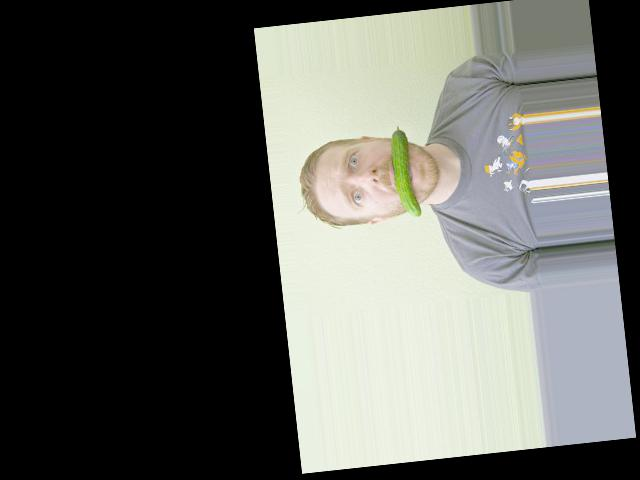cucumber: (388, 124, 422, 220)
